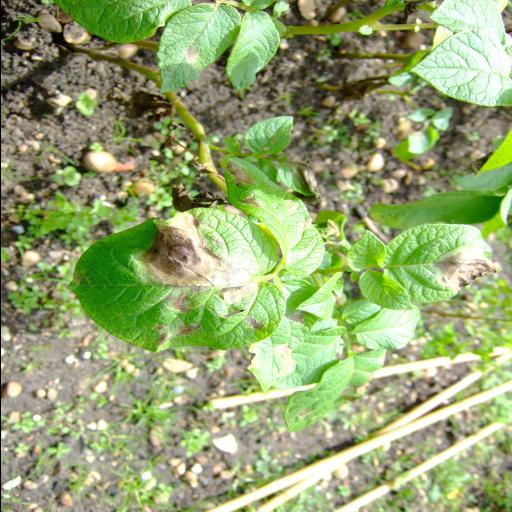disease_tomato: (77, 208, 283, 360), (376, 223, 498, 305), (155, 4, 239, 94)
